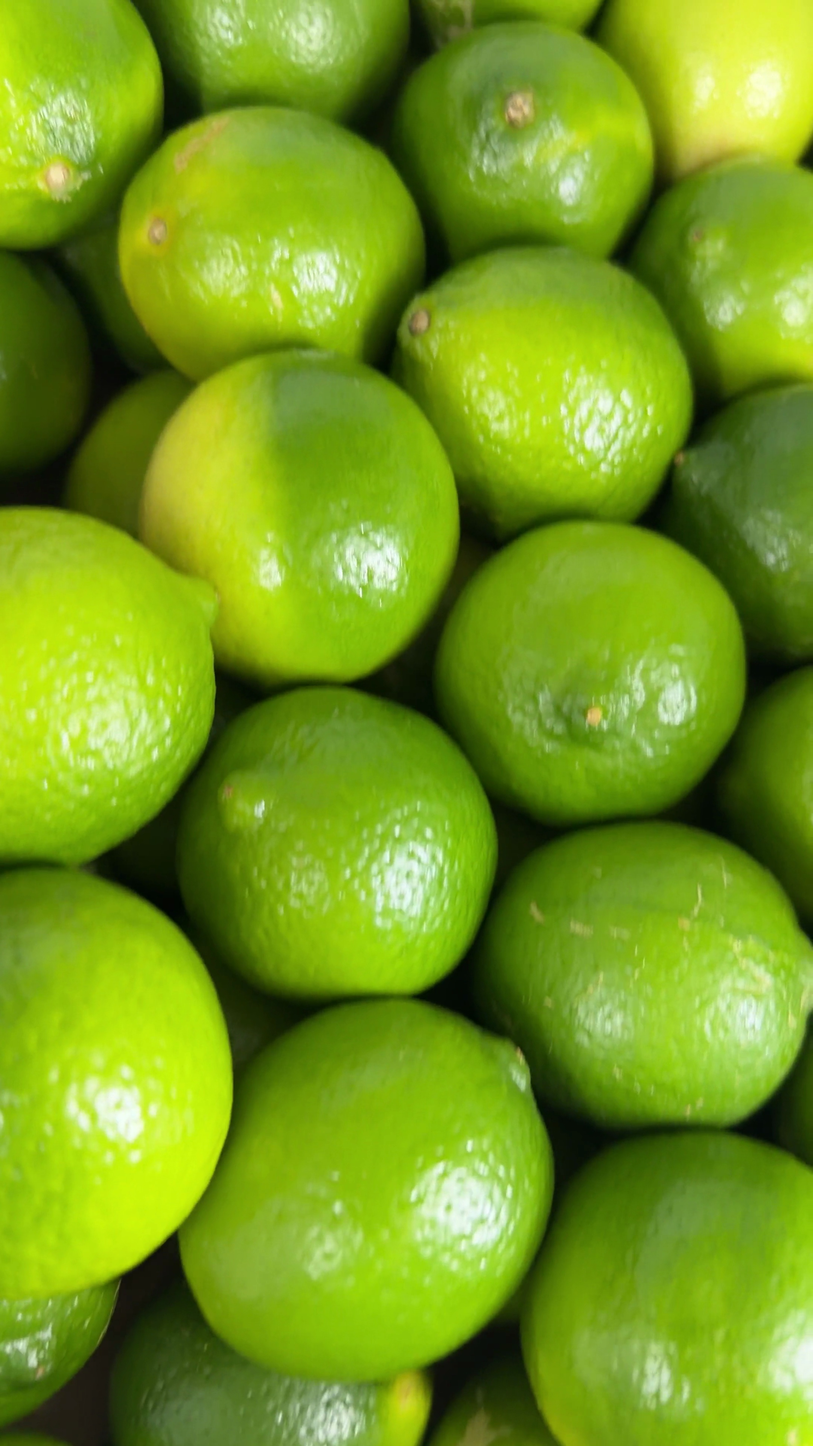lime: (180, 1000, 552, 1380), (140, 350, 458, 689), (473, 822, 813, 1130), (178, 688, 496, 1000), (0, 869, 231, 1297), (435, 522, 744, 827), (523, 1132, 813, 1446), (394, 247, 692, 540), (119, 107, 424, 379), (0, 507, 216, 864), (389, 21, 653, 262), (110, 1283, 431, 1446), (630, 159, 813, 406), (660, 384, 813, 663), (0, 0, 163, 248), (597, 0, 813, 182), (135, 0, 409, 120), (717, 667, 813, 922), (359, 534, 492, 715), (63, 372, 192, 537), (0, 250, 91, 475), (55, 212, 166, 372), (189, 928, 303, 1076), (0, 1282, 116, 1426), (429, 1351, 557, 1446), (415, 0, 601, 48), (108, 788, 183, 905), (545, 1109, 606, 1210), (490, 800, 553, 889), (775, 1033, 813, 1165), (0, 1432, 65, 1446)
